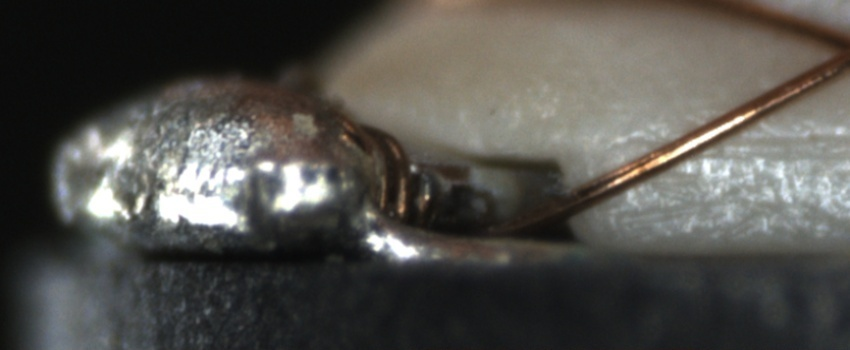DL: (637, 116, 849, 174)
TE: (335, 114, 422, 226)
